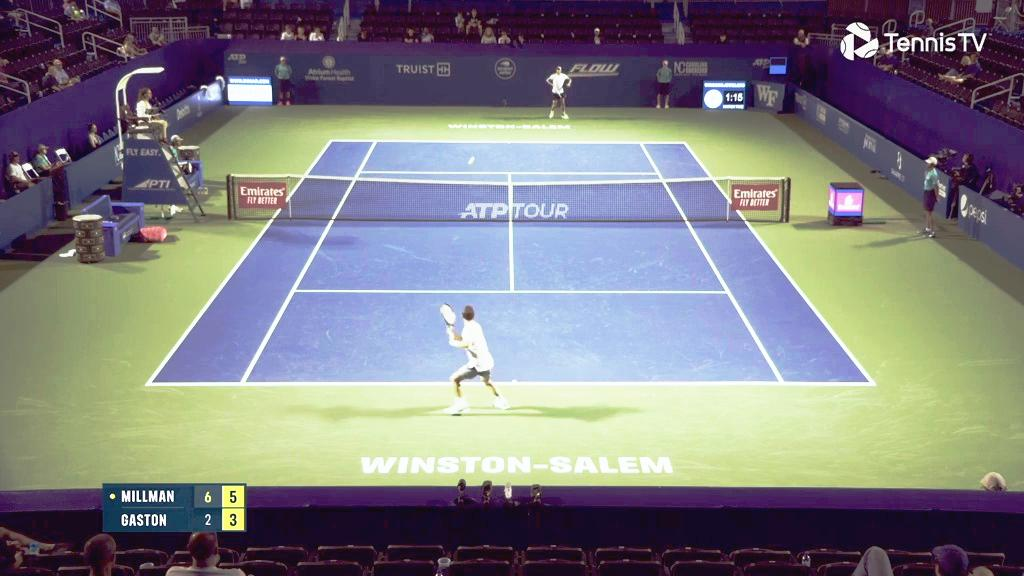tennis-court: (144, 140, 877, 385)
